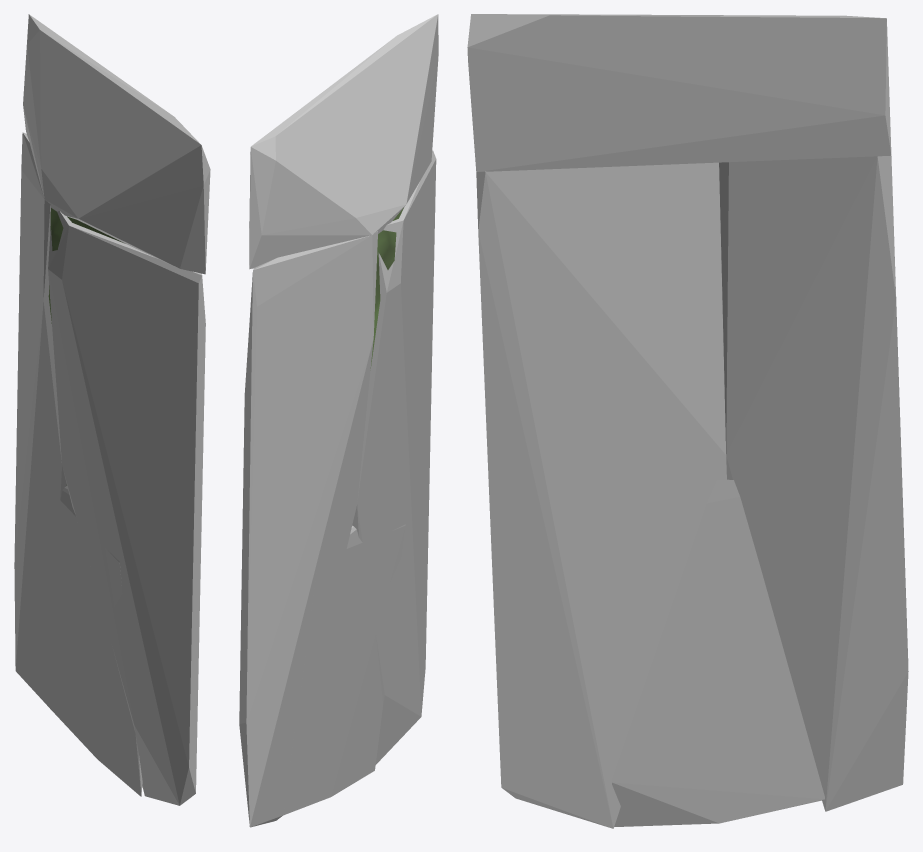
Rendered from SM_Env_Leaves_Line_05.fbx.
3 renders of one model, left to right at view 1: azimuth 30°, elevation 25°; view 2: azimuth 150°, elevation 25°; view 3: azimuth 270°, elevation 25°, orthographic. The views are drawn at different scales.
Visible parts, largest first — view 1: SM_Env_Leaves_Line_05_ConvexHulls, SM_Env_Leaves_Line_05; view 2: SM_Env_Leaves_Line_05_ConvexHulls, SM_Env_Leaves_Line_05; view 3: SM_Env_Leaves_Line_05_ConvexHulls.
Boxes of the visible parts, x1=… form: SM_Env_Leaves_Line_05_ConvexHulls: x1=14, y1=14, x2=210, y2=805; SM_Env_Leaves_Line_05: x1=48, y1=208, x2=124, y2=485; SM_Env_Leaves_Line_05_ConvexHulls: x1=239, y1=14, x2=438, y2=827; SM_Env_Leaves_Line_05: x1=370, y1=208, x2=403, y2=368; SM_Env_Leaves_Line_05_ConvexHulls: x1=467, y1=14, x2=908, y2=828.
Bounding box in the file's own units: 7.44 × 40.93 × 84.38.
2 materials, 1 textured.
